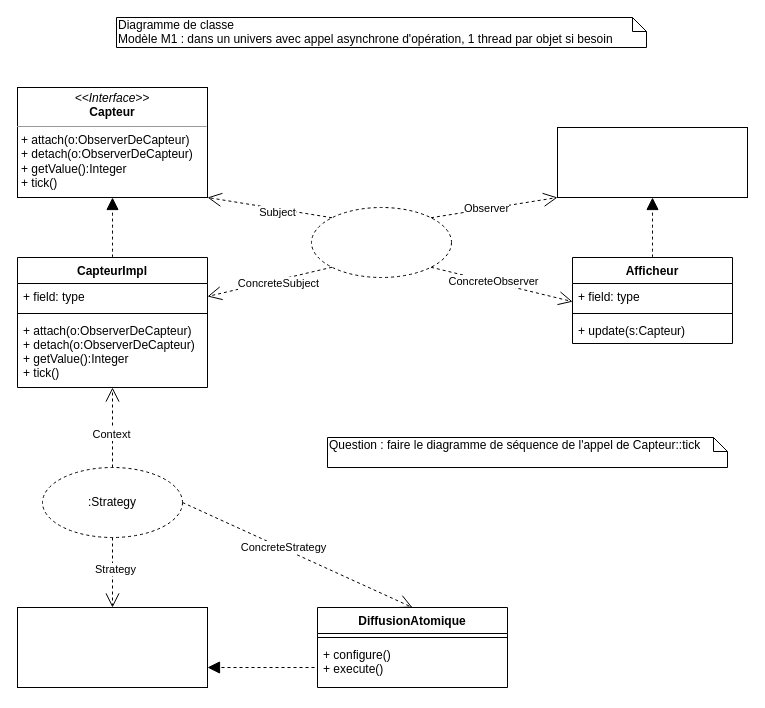
This 765x708 diagram has some shape labels left out. Each missing label, with the centre of its shape:
":Observer" belongs at point (381, 242).
"<<Interface>> AlgoDiffusion + configure() + execute()" belongs at point (112, 647).
"<<Interface>> ObserverDeCapteur + update(s:Capteur)" belongs at point (652, 162).
